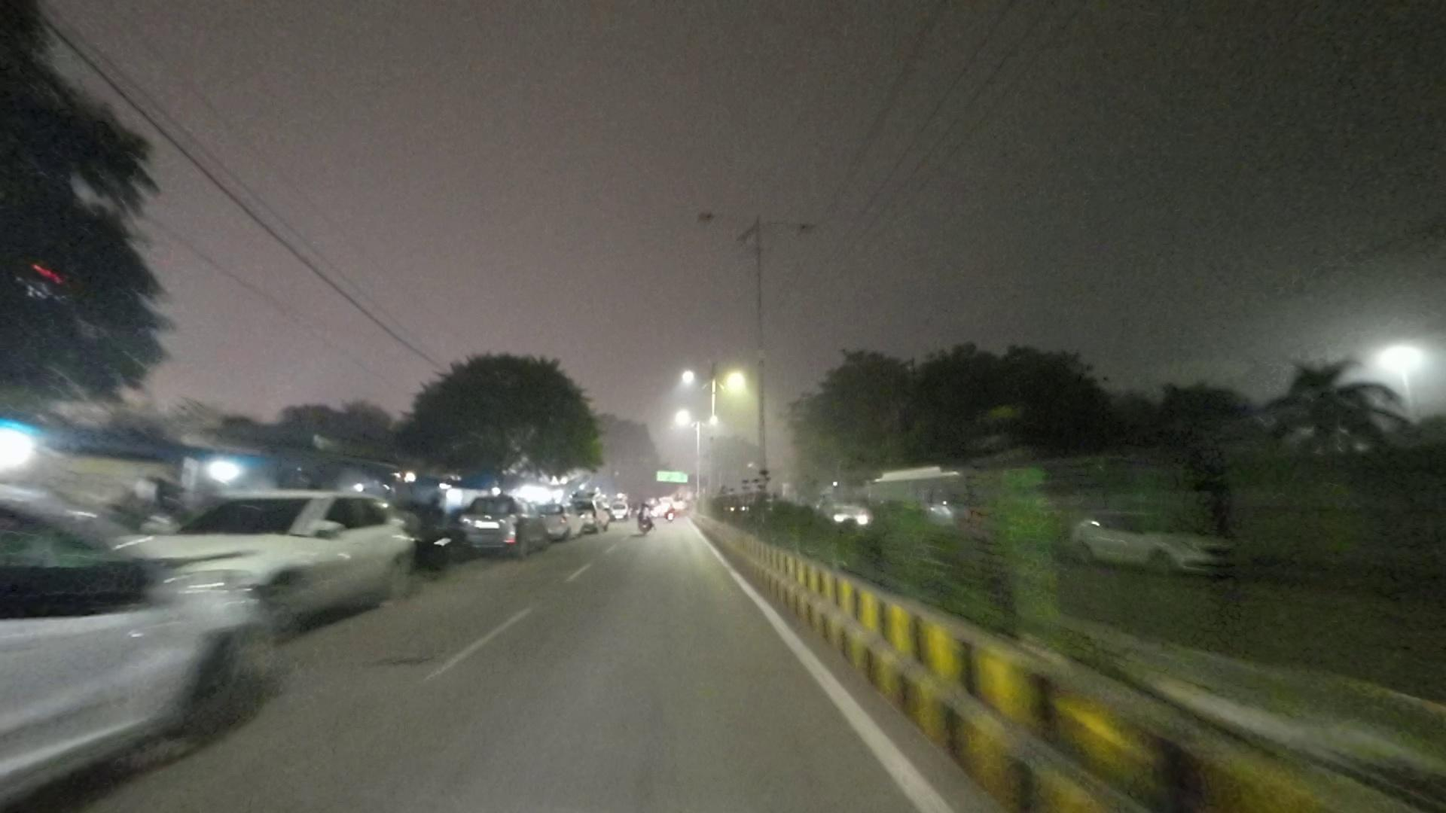streetlight: (761, 217, 819, 236), (698, 209, 753, 228)
